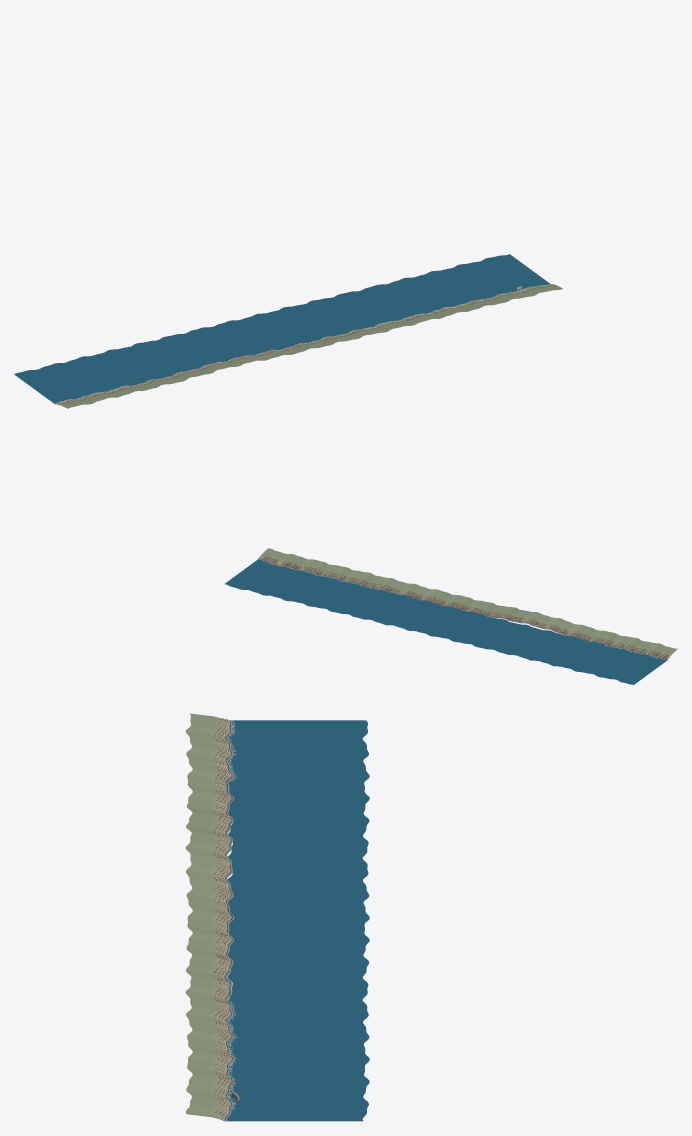
The model's file is monaco.glb.
3 views of the same model, one above another, from view 1: azimuth 30°, elevation 25°; view 2: azimuth 150°, elevation 25°; view 3: azimuth 270°, elevation 25° (orthographic). The views are drawn at different scales.
Parts seen in each view (by area): view 1: HerculeWater_008, HerculeWater_020, HerculeWater_035, HerculeWater_005, HerculeWater_010, HerculeWater_033, HerculeWater_018, HerculeWater_023, HerculeWater_025, HerculeWater_003, HerculeWater_040, HerculeWater_030 (+5 smaller); view 2: HerculeWater_008, HerculeWater_035, HerculeWater_020, HerculeWater_005, HerculeWater_010, HerculeWater_033, HerculeWater_018, HerculeWater_025, HerculeWater_023, Land_009, Land_001, HerculeWater_003 (+17 smaller); view 3: HerculeWater_020, HerculeWater_008, HerculeWater_035, HerculeWater_010, HerculeWater_005, HerculeWater_033, HerculeWater_018, HerculeWater_023, HerculeWater_025, HerculeWater_003, HerculeWater_040, HerculeWater_030 (+26 smaller).
Boxes of the visible parts, x1,y1,x2,y2 form: HerculeWater_008: (97,347,164,384); HerculeWater_020: (245,311,312,347); HerculeWater_035: (419,269,486,304); HerculeWater_005: (70,354,136,390); HerculeWater_010: (125,341,189,377); HerculeWater_033: (393,276,459,311); HerculeWater_018: (220,318,284,353); HerculeWater_023: (276,305,339,340); HerculeWater_025: (301,298,363,334); HerculeWater_003: (45,362,108,395); HerculeWater_040: (476,256,537,291); HerculeWater_030: (361,284,418,320); HerculeWater_008: (543,637,599,667); HerculeWater_035: (275,572,331,602); HerculeWater_020: (420,607,476,637); HerculeWater_005: (567,643,620,673); HerculeWater_010: (521,632,576,662); HerculeWater_033: (299,578,352,607); HerculeWater_018: (444,613,496,643); HerculeWater_025: (377,597,430,626); HerculeWater_023: (398,602,450,631); Land_009: (278,553,329,574); Land_001: (589,630,642,649); HerculeWater_003: (590,649,640,678); HerculeWater_020: (229,906,369,929); HerculeWater_008: (229,787,369,809); HerculeWater_035: (229,1048,369,1070); HerculeWater_010: (228,809,369,830); HerculeWater_005: (228,765,369,786); HerculeWater_033: (228,1027,369,1048); HerculeWater_018: (228,887,369,906); HerculeWater_023: (229,932,369,951); HerculeWater_025: (228,952,369,970); HerculeWater_003: (227,746,368,763); HerculeWater_040: (227,1094,368,1111); HerculeWater_030: (227,1000,368,1016).
Bounding box in the file's own units: 13957 × 2978 × 3310.
